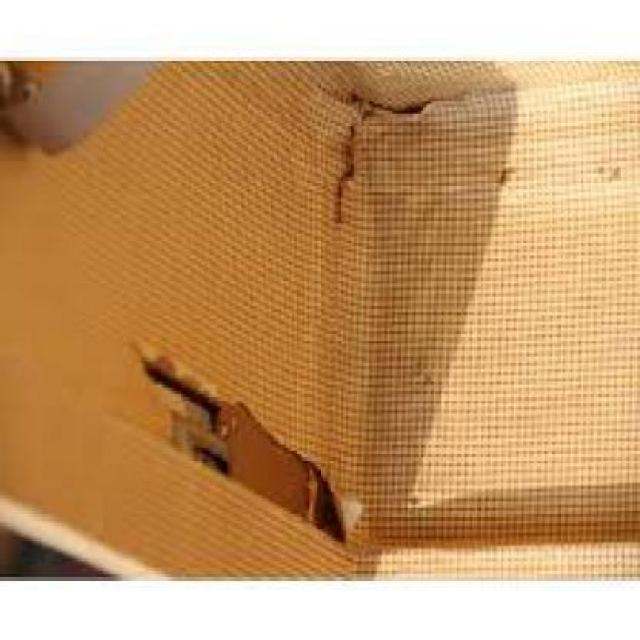CARDBOARD: (1, 65, 638, 588)
